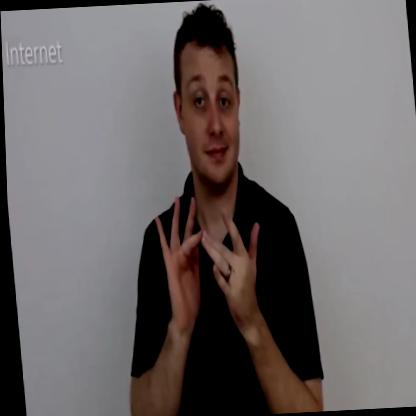Internet: (93, 0, 323, 416)
